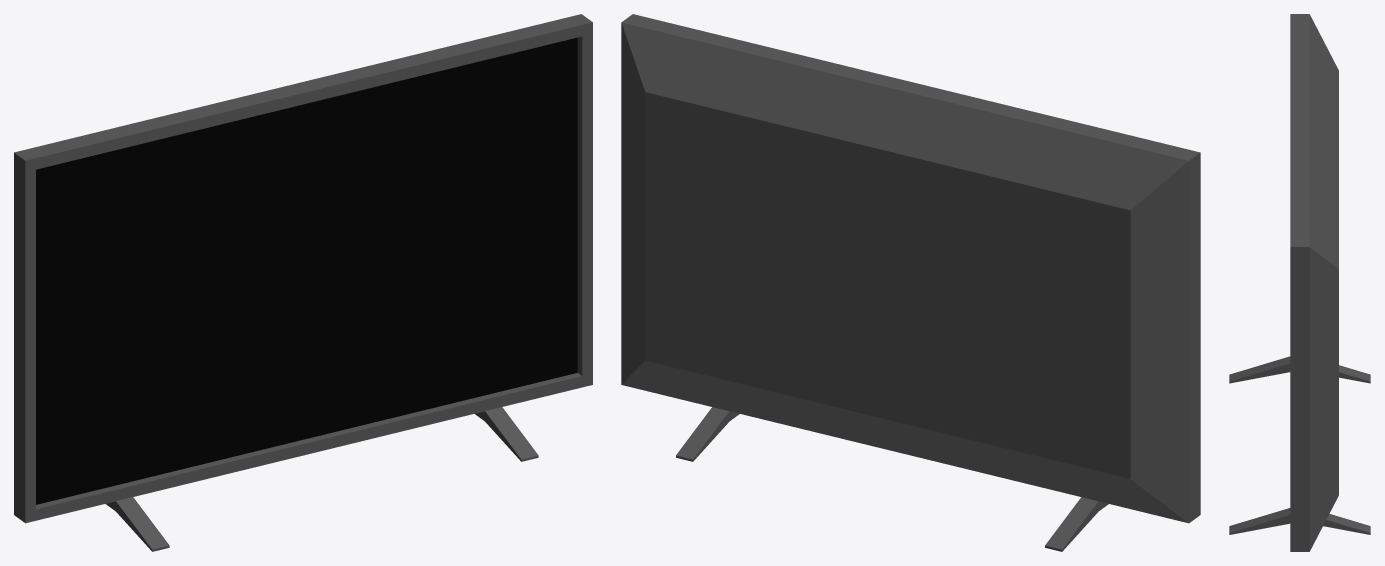
File: Prop_ModernTV.fbx
3 views of the same model, side by side, from view 1: azimuth 30°, elevation 25°; view 2: azimuth 150°, elevation 25°; view 3: azimuth 270°, elevation 25° (orthographic). The views are drawn at different scales.
Parts seen in each view (by area): view 1: Prop_ModernTV; view 2: Prop_ModernTV; view 3: Prop_ModernTV.
Boxes of the visible parts, <box> form: Prop_ModernTV: <box>14,14,592,551</box>; Prop_ModernTV: <box>621,14,1200,551</box>; Prop_ModernTV: <box>1229,14,1370,551</box>.
Size of the model in its own units: 167 by 109 by 42.79.
